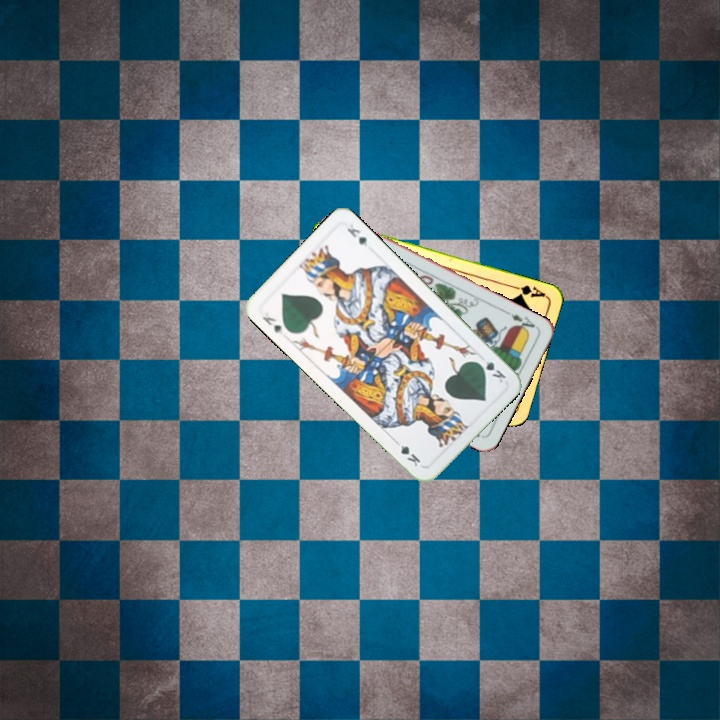EA: (502, 307, 540, 335)
GA: (508, 281, 548, 300)
GK: (473, 356, 508, 385), (258, 307, 286, 337)
